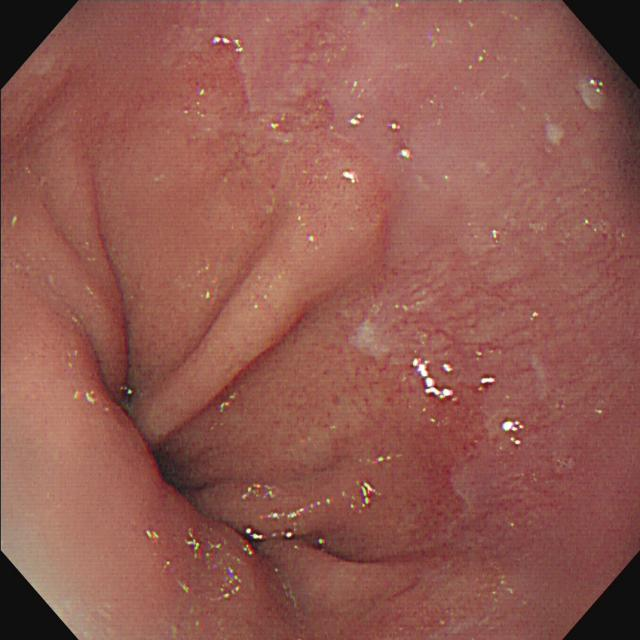E: (144, 447, 197, 501)
I: (43, 24, 517, 632)
U: (414, 357, 460, 403), (503, 420, 527, 448)
